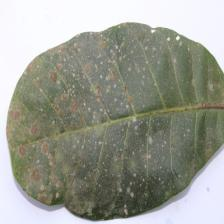red rust: (5, 21, 224, 220)
